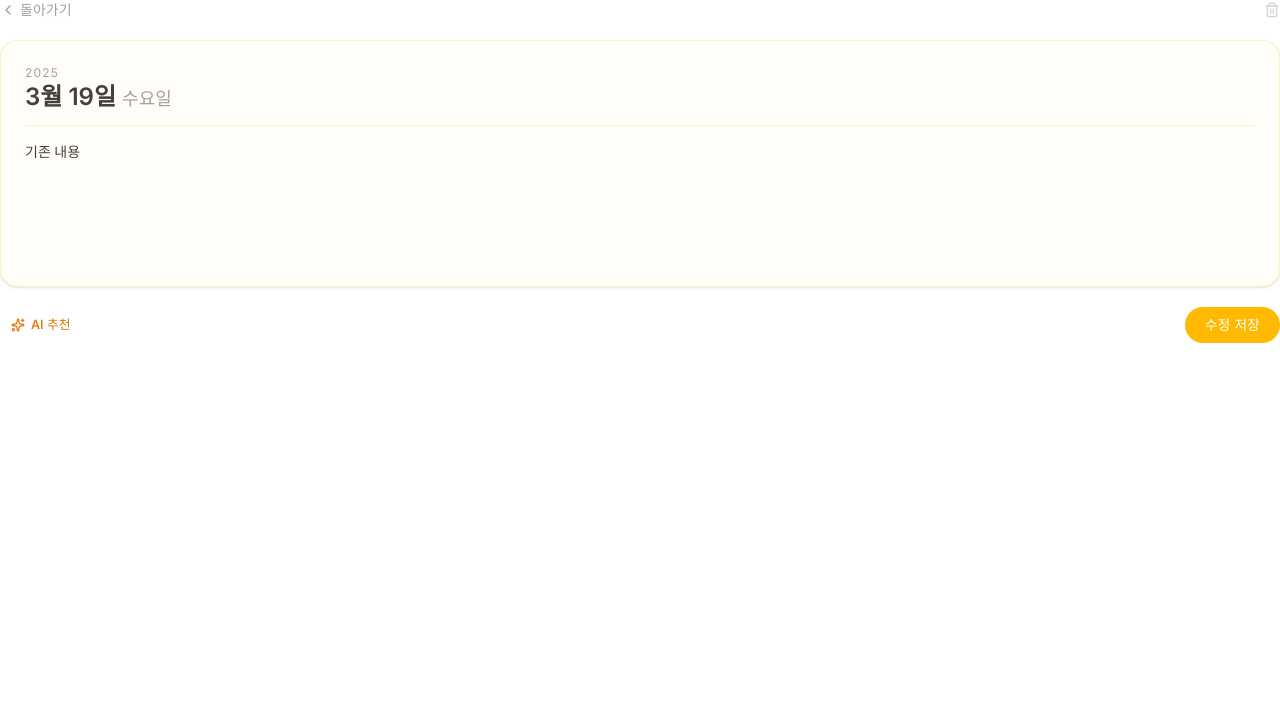
Scenario: DiaryEditor › 삭제 버튼 클릭 시 확인 다이얼로그가 표시된다
Click the button named "삭제": (1272, 10) top-left (1264, 2), bottom-right (1279, 18)
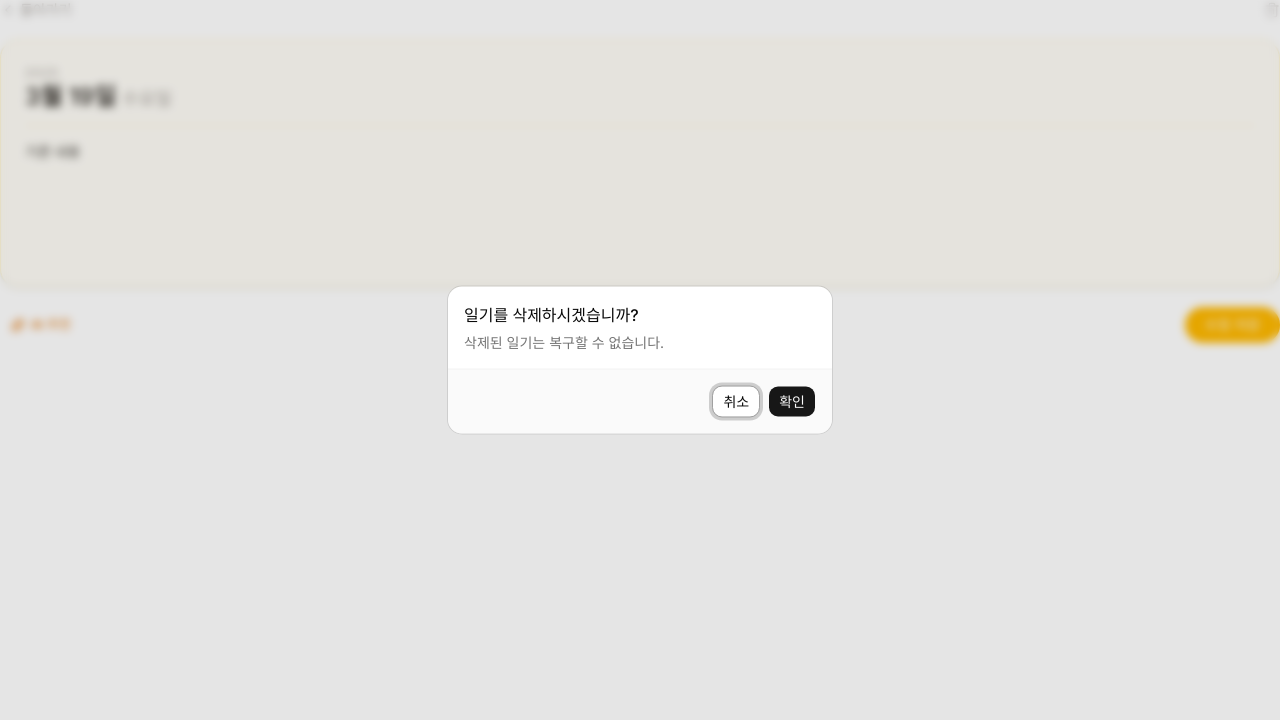
Expected: the heading "일기를 삭제하시겠습니까?" is shown, top-left (464, 302), bottom-right (639, 326)
